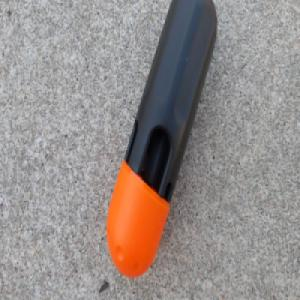PlasticPart: (105, 0, 217, 281)
